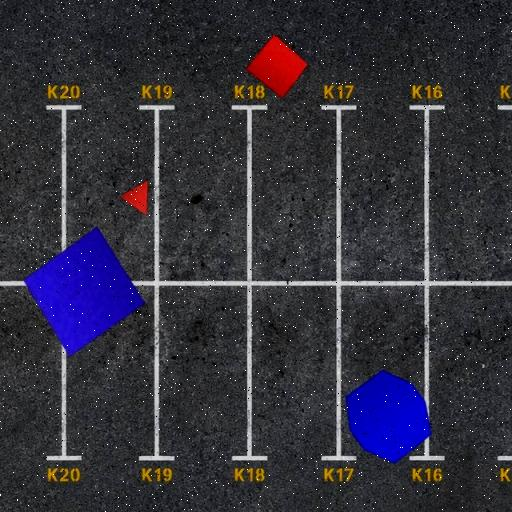BLUE_SQUARE: (23, 226, 146, 358)
RED_SQUARE: (246, 33, 310, 99)
